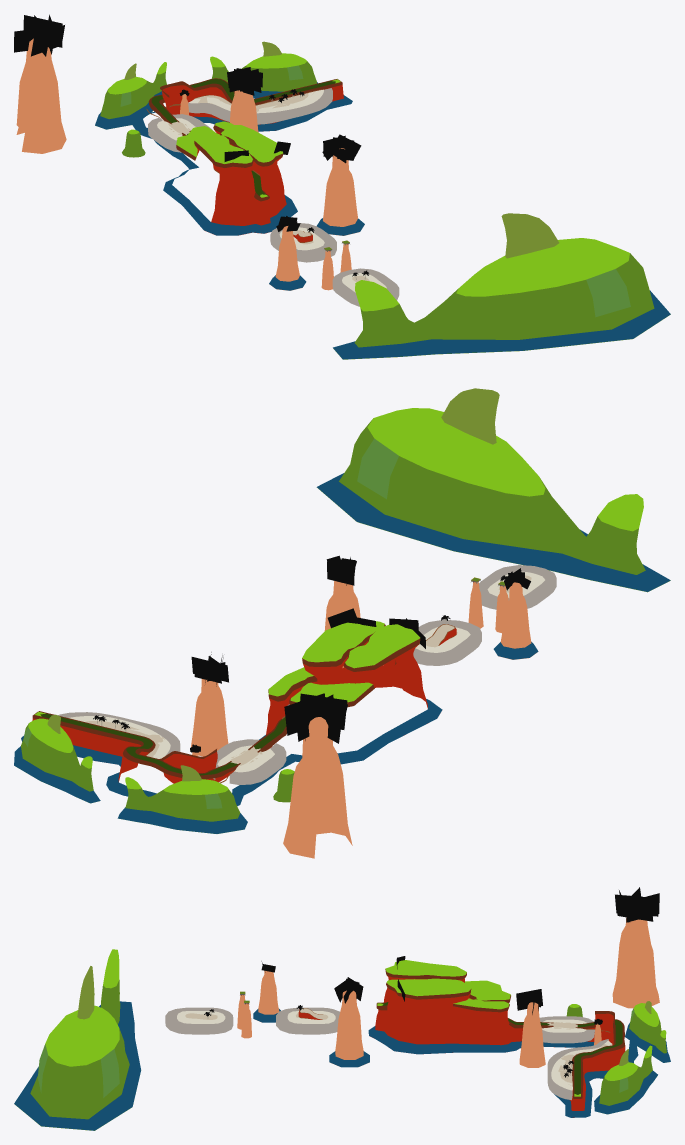
The model's file is Chunk3.obj.
3 views of the same model, one above another, from view 1: azimuth 30°, elevation 25°; view 2: azimuth 150°, elevation 25°; view 3: azimuth 270°, elevation 25° (orthographic). The views are drawn at different scales.
Size of the model in its own units: 4884 by 1670 by 9510.
